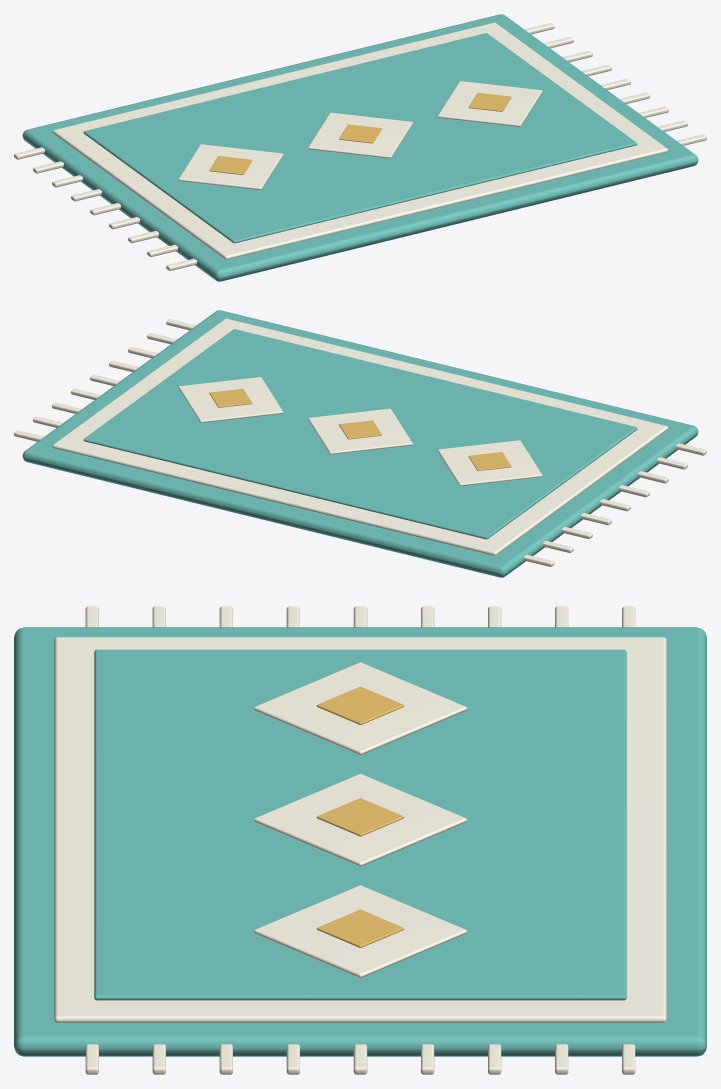
Rendered from rugGeometricTeal.glb.
The picture shows the model from 3 angles, top to bottom: view 1: azimuth 30°, elevation 25°; view 2: azimuth 150°, elevation 25°; view 3: azimuth 270°, elevation 25°; orthographic projection. The views are drawn at different scales.
Parts seen in each view (by area): view 1: Teal patterned field, Woven rectangle rug, Cream rug border, Woven diamond.002, Woven diamond.001, Woven diamond, Diamond center, Diamond center.001, Diamond center.002; view 2: Teal patterned field, Woven rectangle rug, Cream rug border, Woven diamond.002, Woven diamond.001, Woven diamond, Diamond center, Diamond center.001, Diamond center.002; view 3: Teal patterned field, Woven rectangle rug, Cream rug border, Woven diamond.001, Woven diamond.002, Woven diamond, Diamond center.001, Diamond center, Diamond center.002.
Boxes of the visible parts, x1,y1,x2,y2 form: Teal patterned field: (83, 33, 637, 243); Woven rectangle rug: (22, 14, 698, 281); Cream rug border: (52, 22, 668, 259); Woven diamond.002: (437, 81, 542, 126); Woven diamond.001: (308, 112, 412, 158); Woven diamond: (178, 144, 283, 189); Diamond center: (209, 156, 252, 174); Diamond center.001: (339, 124, 381, 143); Diamond center.002: (468, 92, 511, 111); Teal patterned field: (83, 329, 637, 539); Woven rectangle rug: (22, 310, 698, 577); Cream rug border: (52, 318, 668, 555); Woven diamond.002: (178, 377, 283, 422); Woven diamond.001: (308, 408, 412, 454); Woven diamond: (437, 440, 542, 485); Diamond center: (468, 452, 511, 470); Diamond center.001: (339, 420, 381, 439); Diamond center.002: (209, 388, 252, 407); Teal patterned field: (94, 649, 626, 1000); Woven rectangle rug: (14, 627, 706, 1056); Cream rug border: (54, 637, 666, 1022); Woven diamond.001: (254, 774, 466, 866); Woven diamond.002: (254, 885, 466, 977); Woven diamond: (254, 662, 466, 754); Diamond center.001: (316, 798, 404, 836); Diamond center: (316, 686, 404, 724); Diamond center.002: (316, 909, 404, 947).
Bounding box in the file's own units: 2.45 × 0.089 × 1.55.
